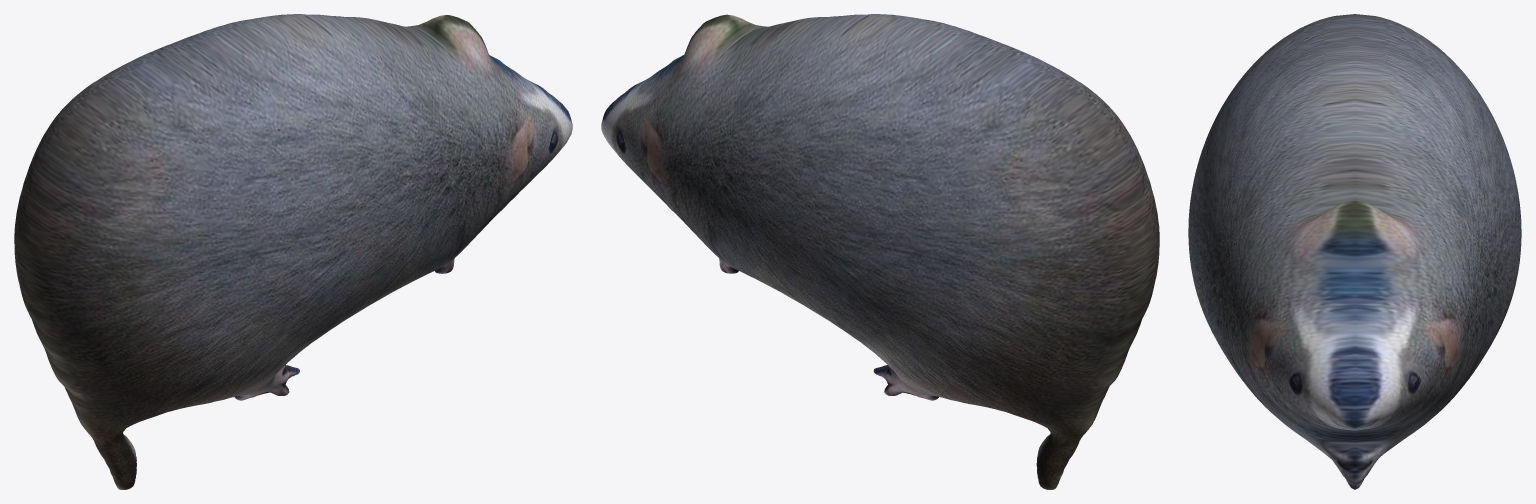
The picture shows the model from 3 angles, left to right: view 1: azimuth 30°, elevation 25°; view 2: azimuth 150°, elevation 25°; view 3: azimuth 270°, elevation 25°; orthographic projection. The views are drawn at different scales.
Size of the model in its own units: 8.65 by 6.49 by 4.14.
1 material, 1 textured.
